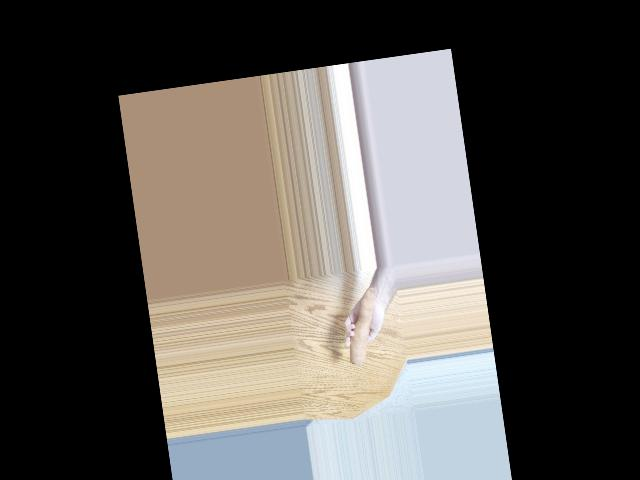sweet_potato: (339, 288, 385, 367)
